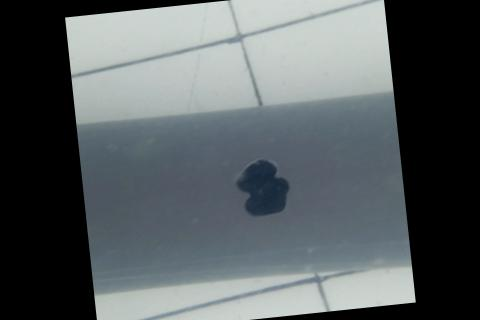kebocoran: (228, 155, 296, 221)
